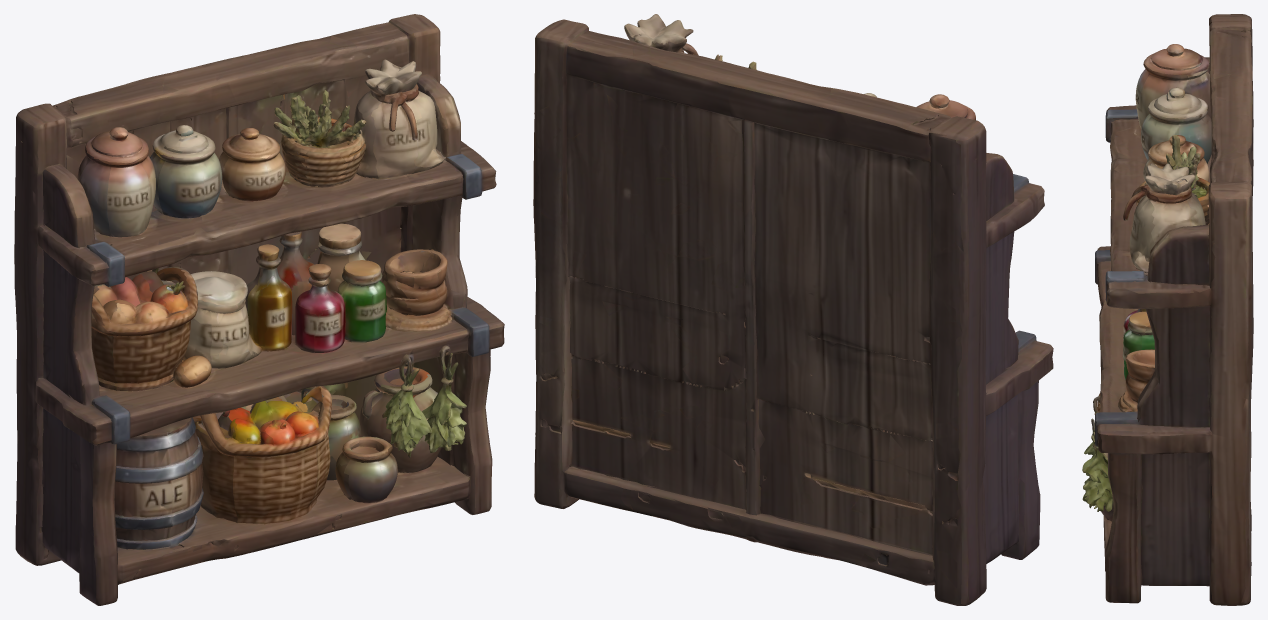
File: pantry-shelf.glb
3 views of the same model, side by side, from view 1: azimuth 30°, elevation 25°; view 2: azimuth 150°, elevation 25°; view 3: azimuth 270°, elevation 25° (orthographic). The views are drawn at different scales.
Parts seen in each view (by area): view 1: geometry_0; view 2: geometry_0; view 3: geometry_0.
Part boxes in pixels (x1,y1,x2,y2): geometry_0: (14,14,504,605); geometry_0: (533,14,1053,605); geometry_0: (1082,14,1253,605).
Size of the model in its own units: 0.8882 by 0.9 by 0.3391.
1 material, 1 textured.
